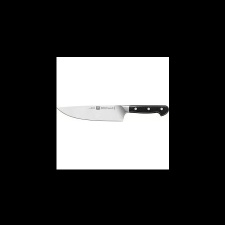k1: (56, 104, 134, 123)
